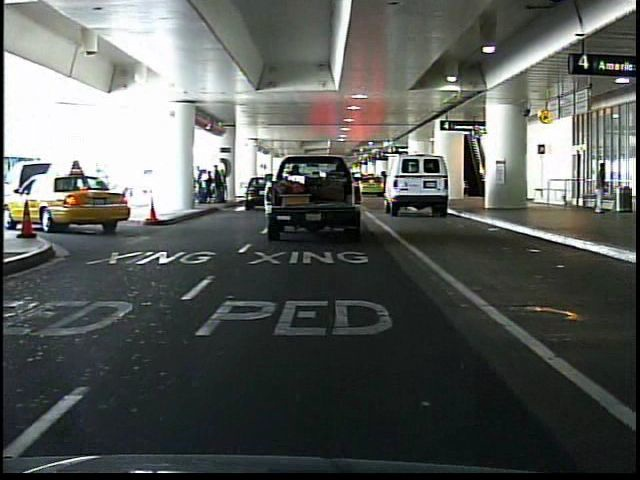person: (588, 159, 612, 217)
